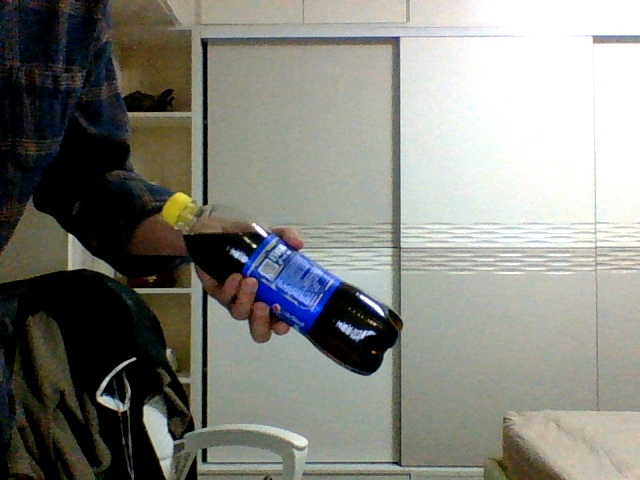Cola: (160, 191, 403, 373)
